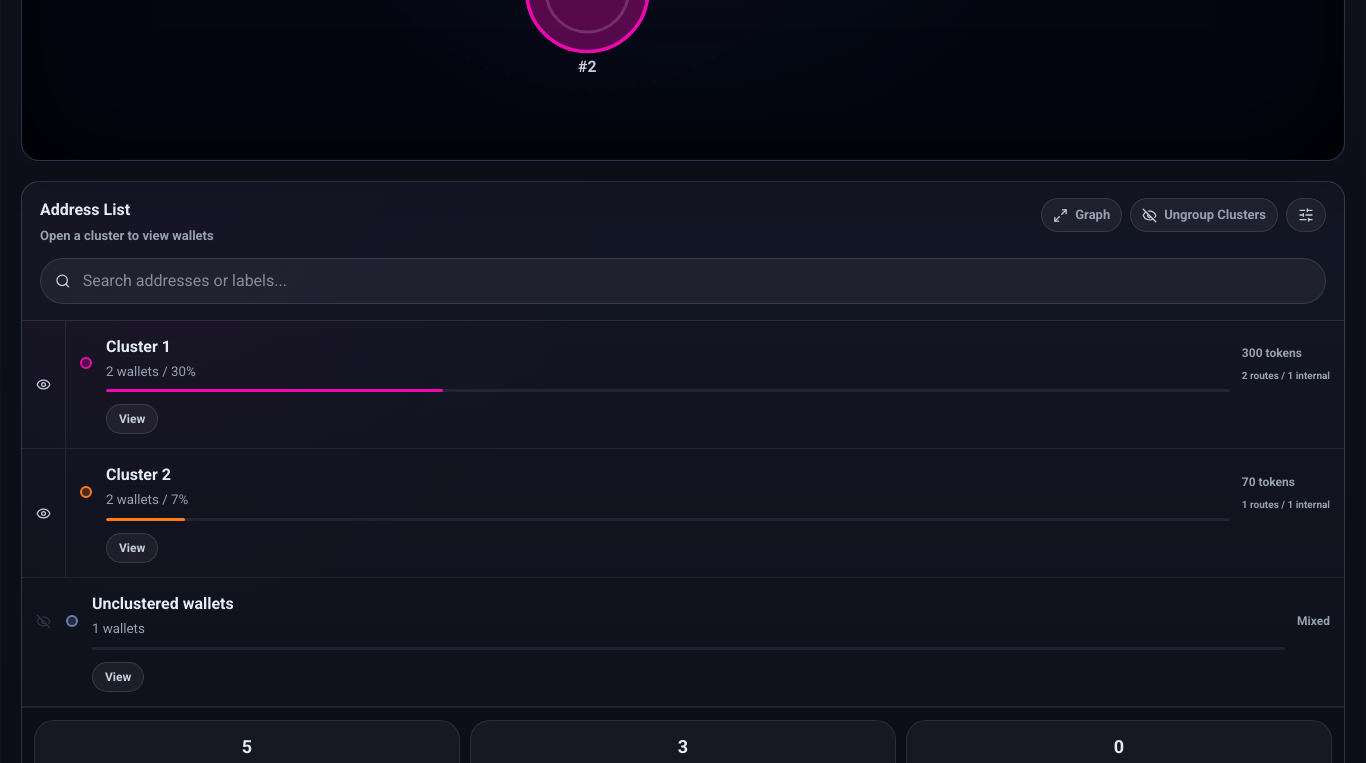
AtlasPanel graph interactions › keeps filtered cluster search understandable when no members match
(page scrolled)
Step 1. Click the button "Cluster 1" → [705, 384], box [66, 320, 1344, 448]
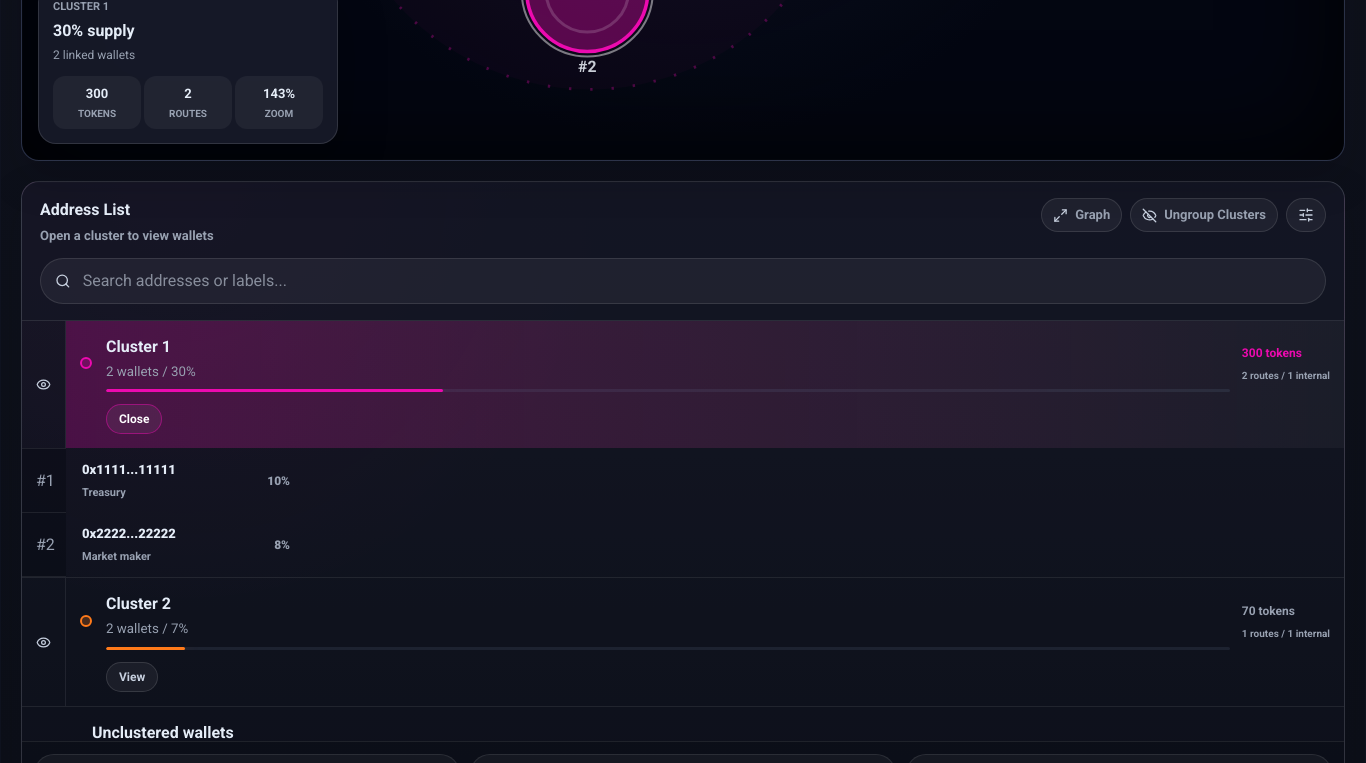
Step 2. Type "Cluster 1" into the search field with placeholder "Search addresses or labels..." → [696, 280], box [81, 268, 1311, 294]
(page scrolled)
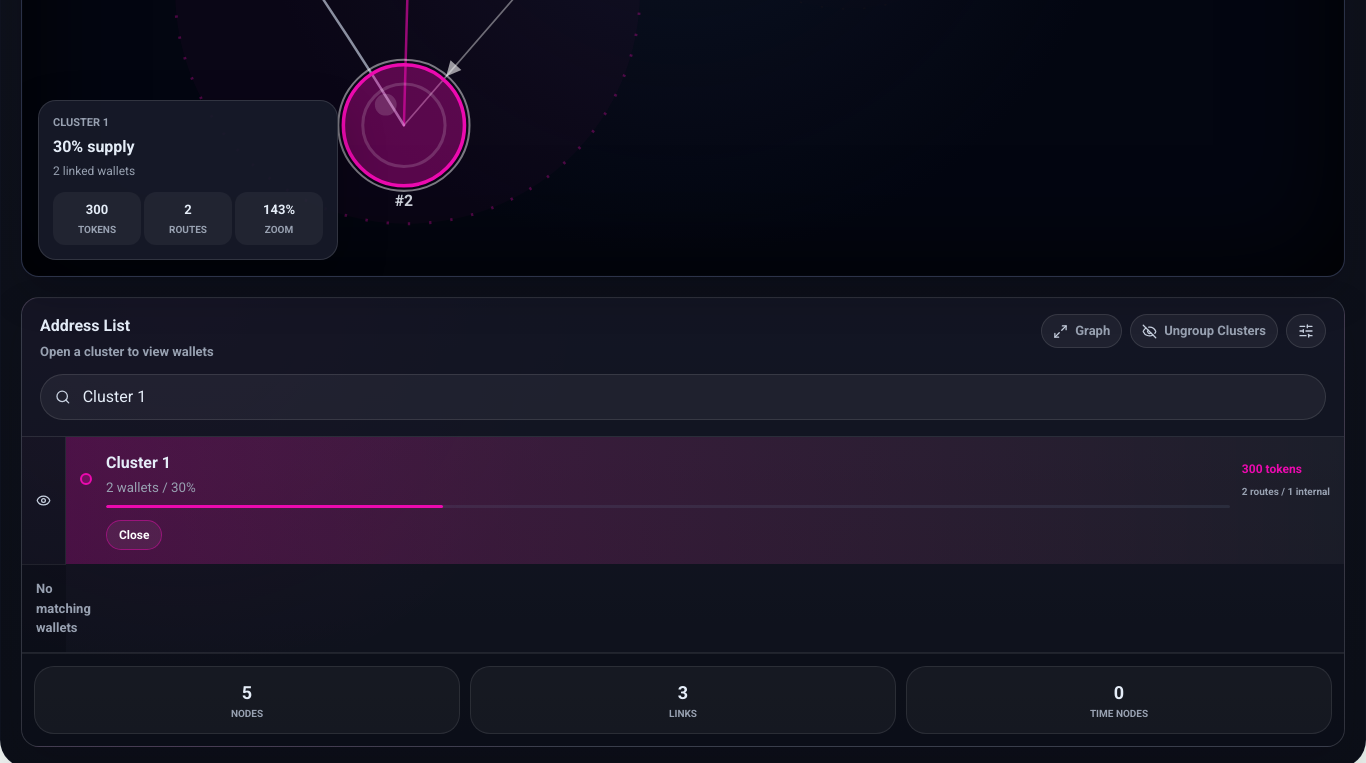
Result: the text "No matching wallets" is shown at [22, 566, 66, 652]
